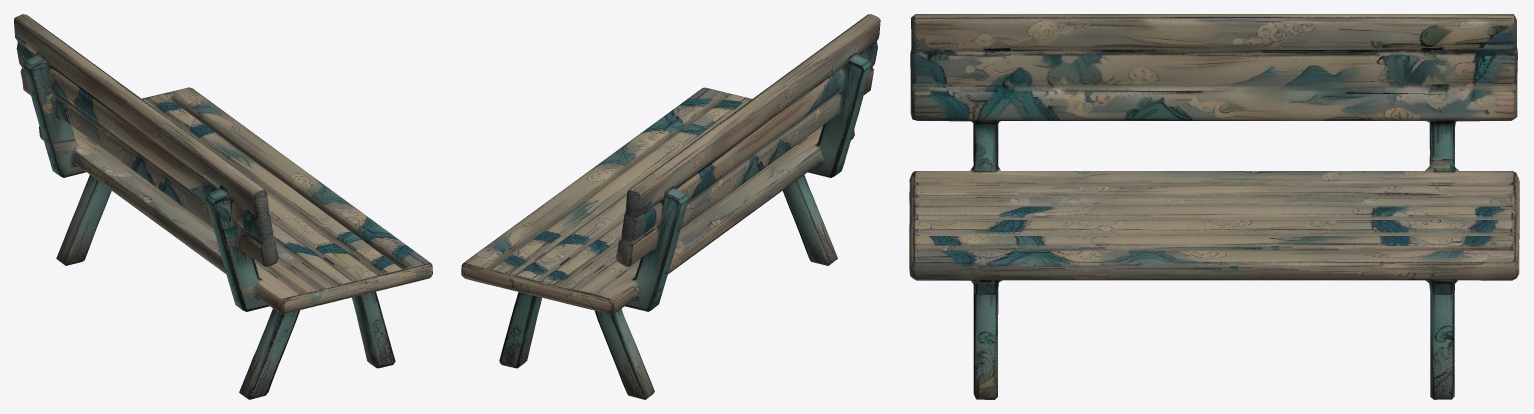
Rendered from demo_bench_shanhai.glb.
The picture shows the model from 3 angles, left to right: view 1: azimuth 30°, elevation 25°; view 2: azimuth 150°, elevation 25°; view 3: azimuth 270°, elevation 25°; orthographic projection. The views are drawn at different scales.
Visible parts, largest first — view 1: tripo_node_5822f3f1-e3a9-4bc0-8bf8-feecff42a04d.001; view 2: tripo_node_5822f3f1-e3a9-4bc0-8bf8-feecff42a04d.001; view 3: tripo_node_5822f3f1-e3a9-4bc0-8bf8-feecff42a04d.001.
Part boxes in pixels (<box>): tripo_node_5822f3f1-e3a9-4bc0-8bf8-feecff42a04d.001: <box>14,14,432,399</box>; tripo_node_5822f3f1-e3a9-4bc0-8bf8-feecff42a04d.001: <box>461,14,880,399</box>; tripo_node_5822f3f1-e3a9-4bc0-8bf8-feecff42a04d.001: <box>909,14,1519,399</box>.
Bounding box in the file's own units: 0.4625 × 0.5226 × 1.
1 material, 1 textured.
